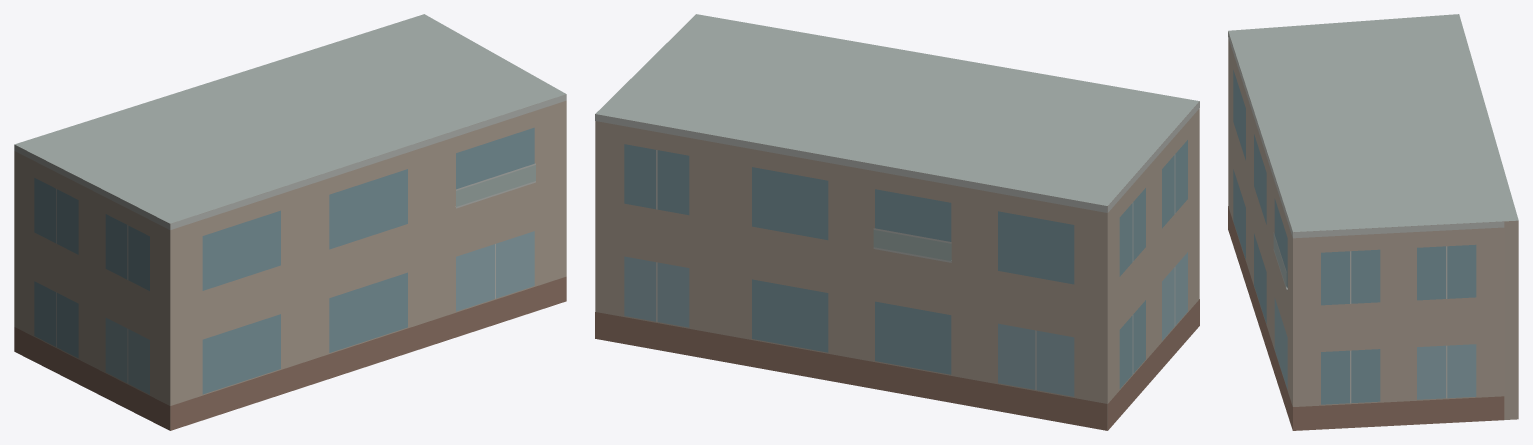
The model's file is survey-upis-32997478.glb.
The picture shows the model from 3 angles, left to right: view 1: azimuth 30°, elevation 25°; view 2: azimuth 150°, elevation 25°; view 3: azimuth 270°, elevation 25°; orthographic projection. The views are drawn at different scales.
Visible parts, largest first — view 1: survey-upis-32997478.tmp; view 2: survey-upis-32997478.tmp; view 3: survey-upis-32997478.tmp.
Part boxes in pixels (x1=…): survey-upis-32997478.tmp: x1=14, y1=14, x2=566, y2=430; survey-upis-32997478.tmp: x1=595, y1=14, x2=1199, y2=430; survey-upis-32997478.tmp: x1=1228, y1=14, x2=1518, y2=430.
Size of the model in its own units: 18.61 by 7.9 by 10.48.
